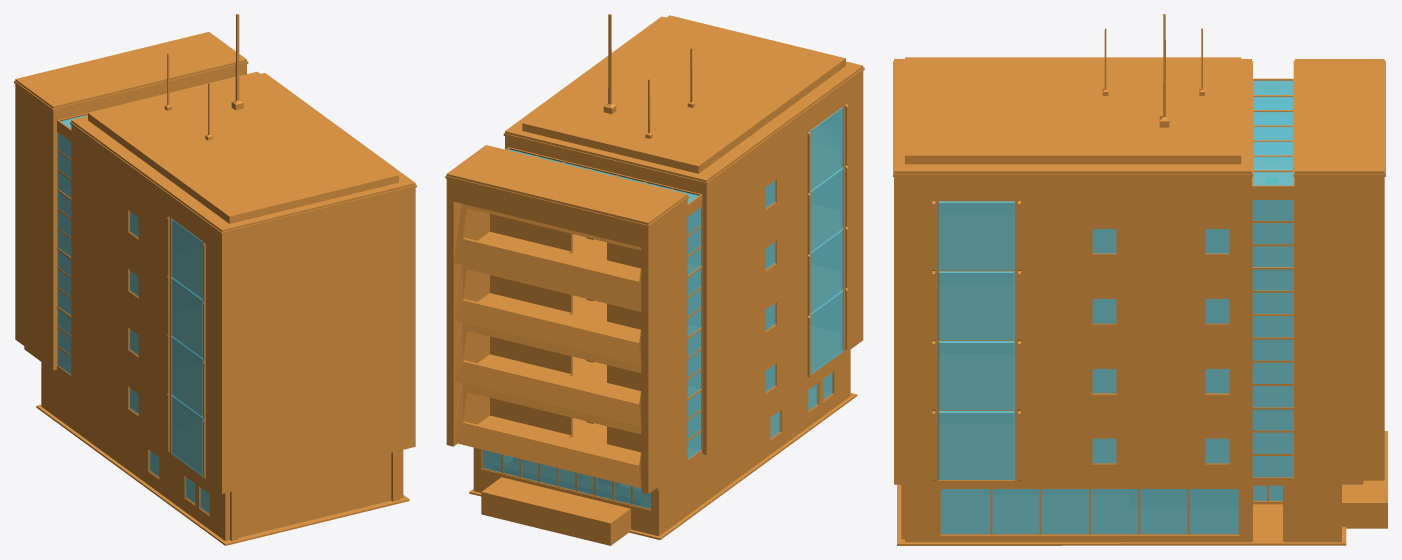
File: OrangeHouse.dae
3 views of the same model, side by side, from view 1: azimuth 30°, elevation 25°; view 2: azimuth 150°, elevation 25°; view 3: azimuth 270°, elevation 25° (orthographic). The views are drawn at different scales.
Parts seen in each view (by area): view 1: Cube_041, Cube_044, Cube_043, Cube_040, Cube_039; view 2: Cube_041, Cube_043, Cube_040, Cube_044, Cube_039; view 3: Cube_041, Cube_043, Cube_044, Cube_040, Cube_039.
Boxes of the visible parts, x1,y1,x2,y2 form: Cube_041: (14,14,416,313); Cube_044: (15,163,415,372); Cube_043: (15,222,415,431); Cube_040: (15,281,415,490); Cube_039: (24,346,415,545); Cube_041: (445,14,864,310); Cube_043: (446,214,863,432); Cube_040: (446,276,863,493); Cube_044: (446,153,863,371); Cube_039: (469,337,863,545); Cube_041: (893,14,1385,270); Cube_043: (894,338,1384,410); Cube_044: (894,268,1384,340); Cube_040: (894,408,1384,480); Cube_039: (894,431,1387,545).
Bounding box in the file's own units: 12.59 × 25.59 × 23.1.
